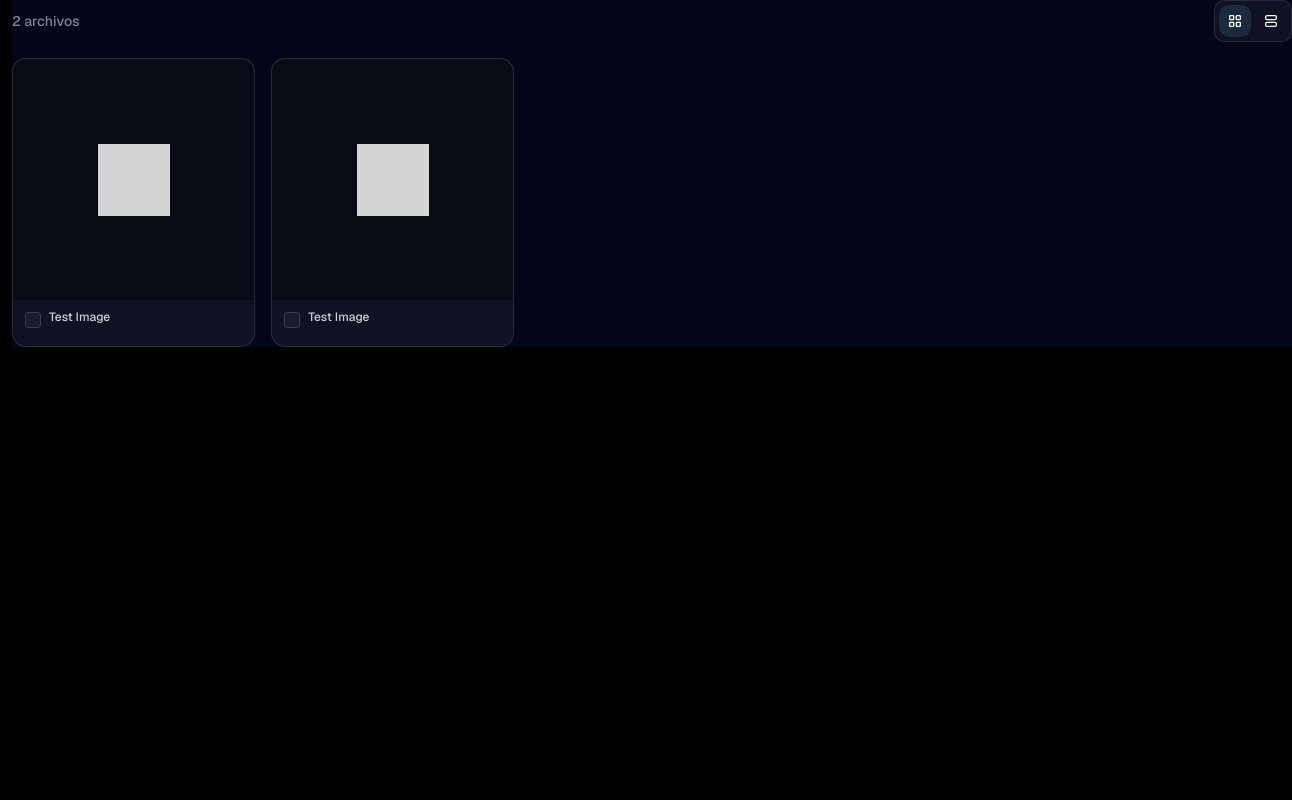
Test: FileView › shows selected count in bulk action bar
Select the first file
Click the 1st checkbox named "Seleccionar Test Image": (33, 320) [25,312,41,328]
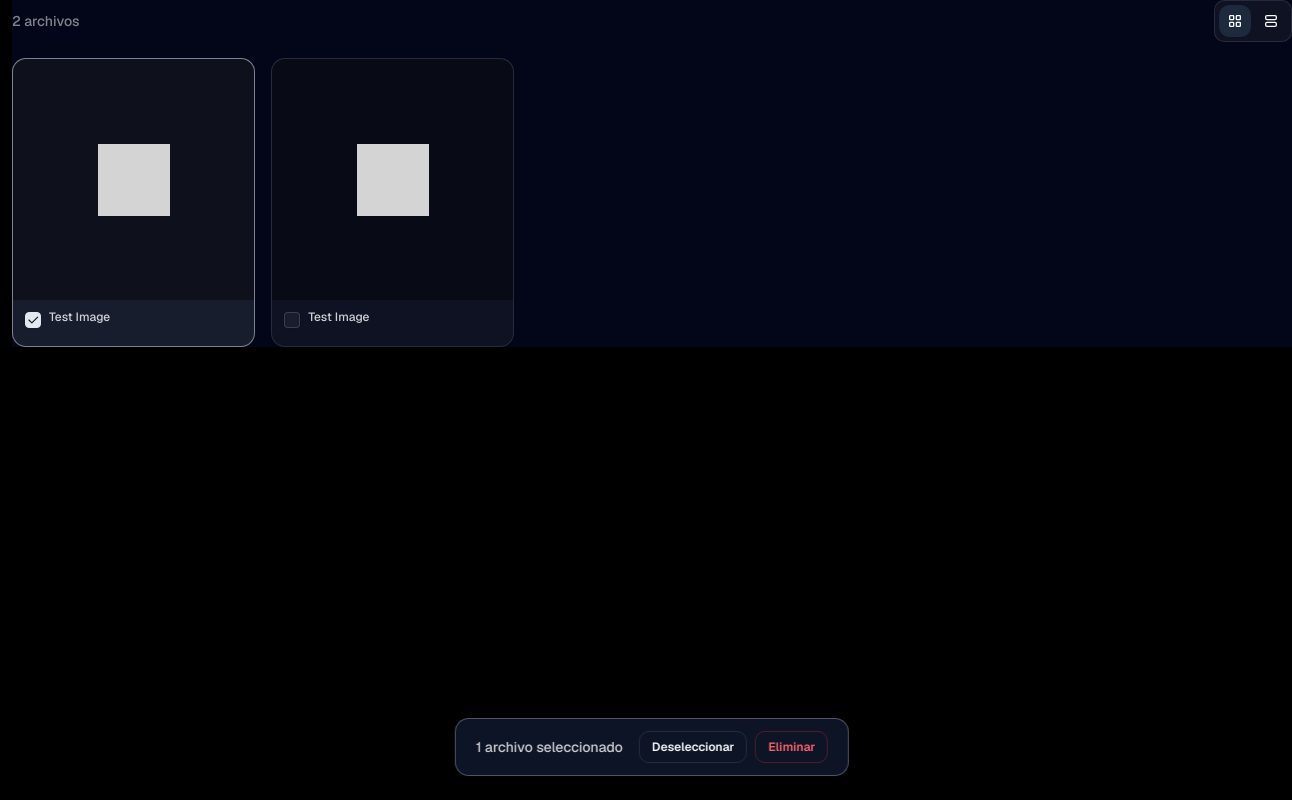
Result: the text "1 archivo seleccionado" is shown at [476,737,623,757]
